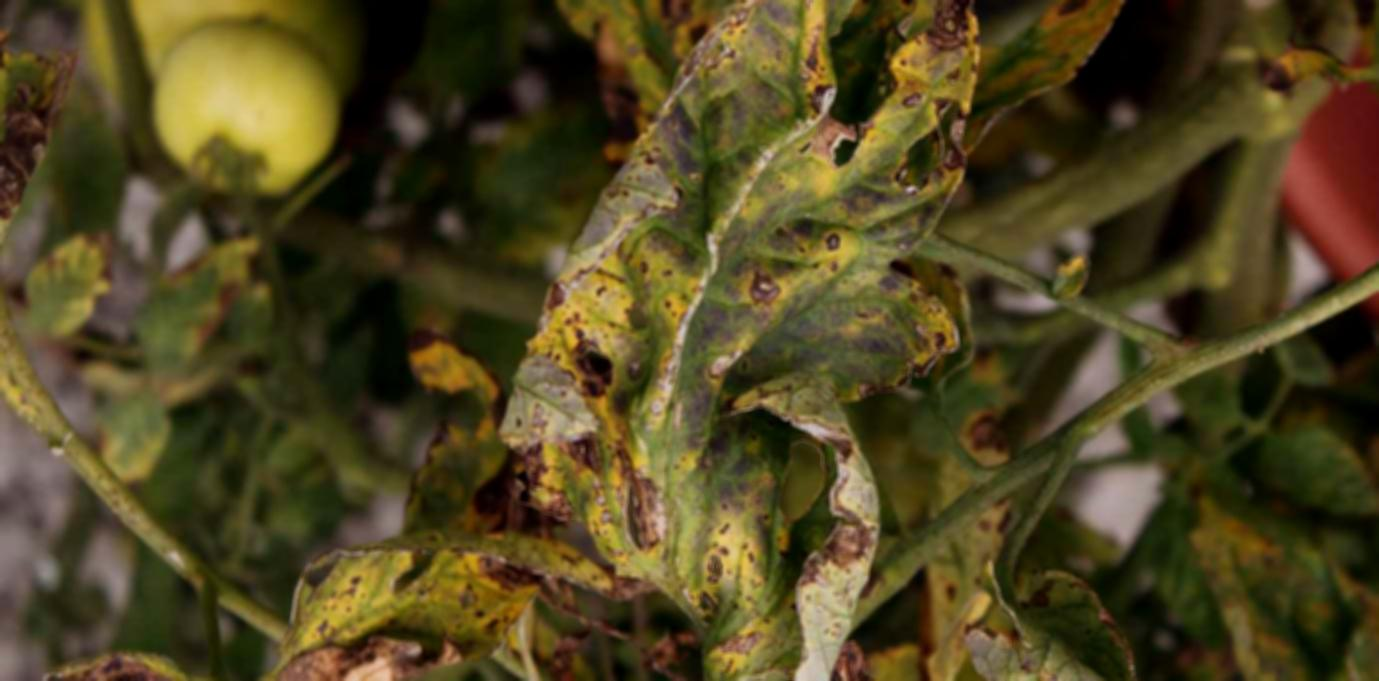Tomato Septoria leaf spot: (495, 0, 990, 681), (161, 529, 581, 681)
